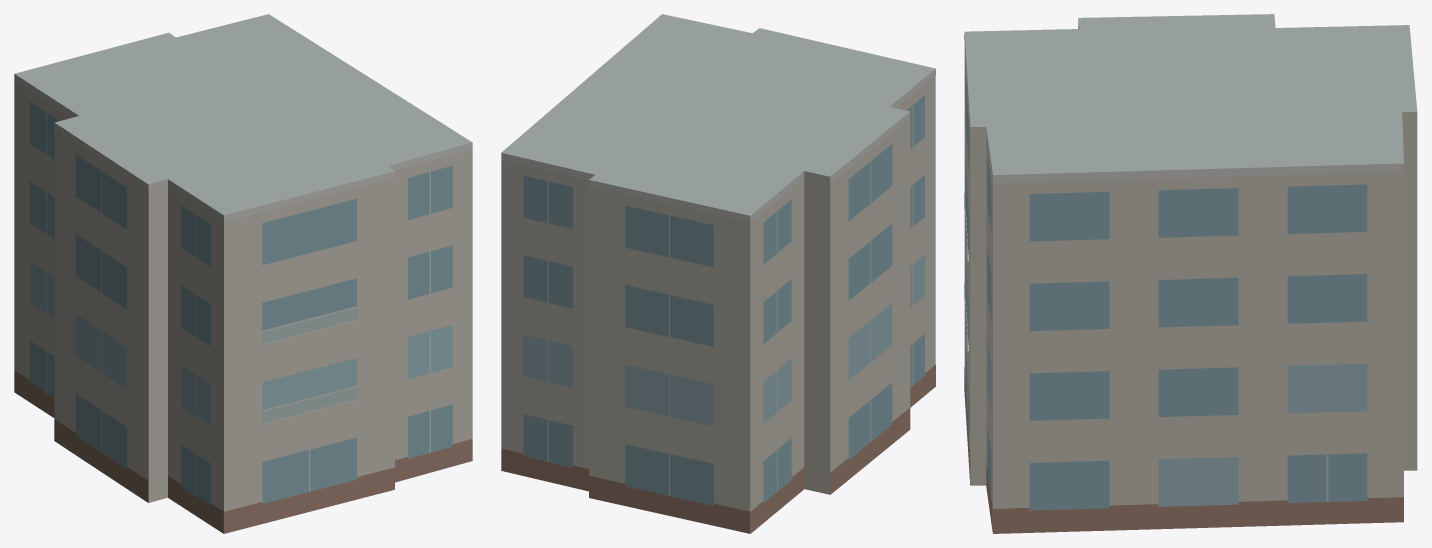
The model's file is survey-upis-32584526.glb.
3 views of the same model, side by side, from view 1: azimuth 30°, elevation 25°; view 2: azimuth 150°, elevation 25°; view 3: azimuth 270°, elevation 25° (orthographic). The views are drawn at different scales.
Visible parts, largest first — view 1: survey-upis-32584526.tmp; view 2: survey-upis-32584526.tmp; view 3: survey-upis-32584526.tmp.
Part boxes in pixels (<box>): survey-upis-32584526.tmp: <box>14,14,472,533</box>; survey-upis-32584526.tmp: <box>501,14,935,533</box>; survey-upis-32584526.tmp: <box>964,14,1417,533</box>.
Size of the model in its own units: 10.99 by 11.4 by 13.05.
